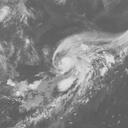cyclone: (49, 31, 123, 94)
